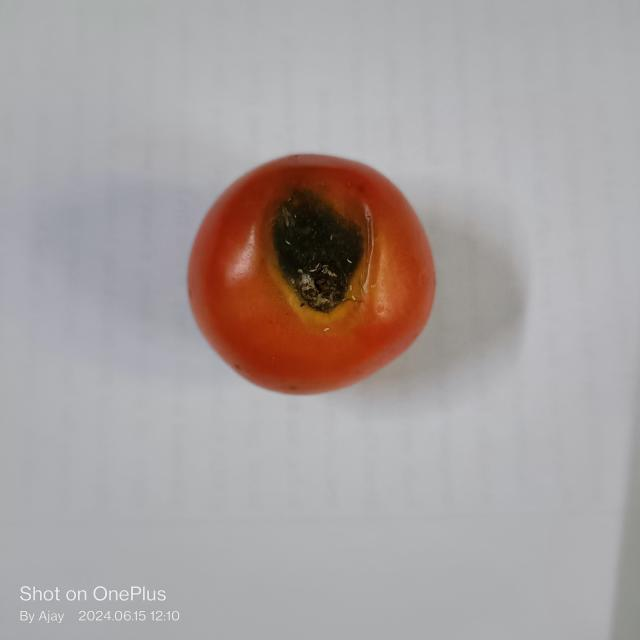Anthrocnose: (259, 190, 377, 315)
